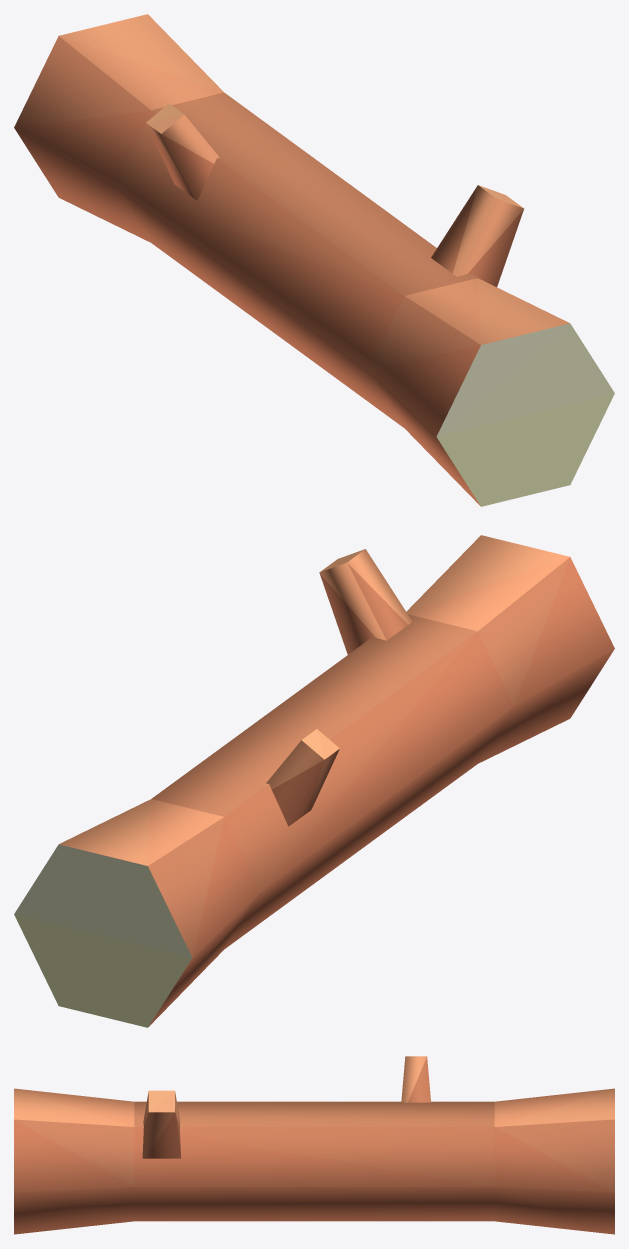
The model's file is kenney_castle_tree_log.glb.
3 views of the same model, one above another, from view 1: azimuth 30°, elevation 25°; view 2: azimuth 150°, elevation 25°; view 3: azimuth 270°, elevation 25° (orthographic). The views are drawn at different scales.
Visible parts, largest first — view 1: wood, cloth; view 2: wood, cloth; view 3: wood, cloth.
Boxes of the visible parts, left/top/right/bottom form: wood: left=14, top=36, right=614, bottom=506; cloth: left=59, top=14, right=569, bottom=344; wood: left=14, top=557, right=614, bottom=1027; cloth: left=59, top=535, right=569, bottom=865; wood: left=14, top=1056, right=614, bottom=1234; cloth: left=14, top=1056, right=614, bottom=1126.
Bounding box in the file's own units: 0.2495 × 0.2771 × 1.
